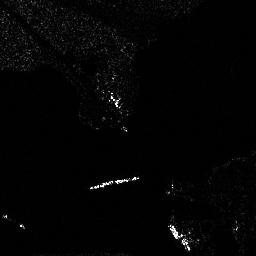ship: (89, 177, 142, 191)
